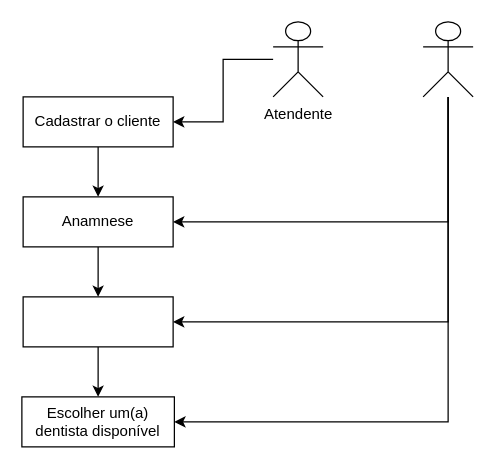
This 495x469 diagram has some shape labels left out. Each missing label, with the box of its shape:
Cliente: (422, 21, 473, 97)
Escolher uma data e um horário: (22, 296, 173, 347)
